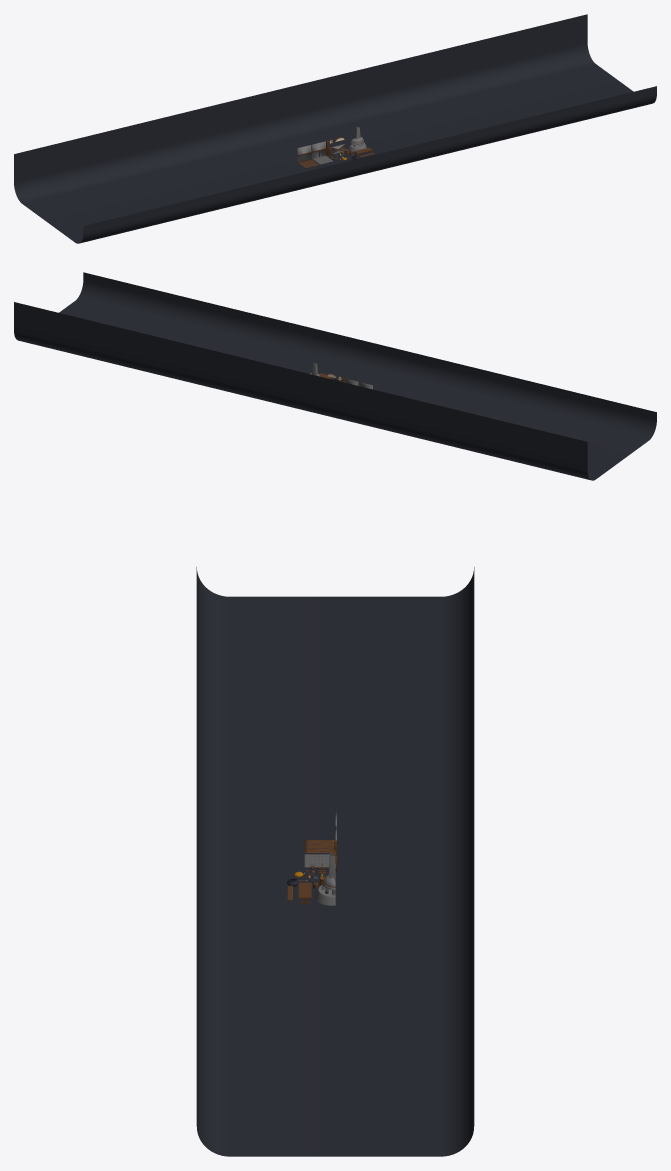
The model's file is scene_models.dae.
3 renders of one model, top to bottom at view 1: azimuth 30°, elevation 25°; view 2: azimuth 150°, elevation 25°; view 3: azimuth 270°, elevation 25°, orthographic. The views are drawn at different scales.
Parts seen in each view (by area): view 1: Plane; view 2: Plane; view 3: Plane.
Part boxes in pixels (x1,y1,x2,y2): Plane: [14, 14, 656, 243]; Plane: [14, 272, 656, 480]; Plane: [196, 567, 474, 1156].
Bounding box in the file's own units: 171 × 35.9 × 12.67.
2 materials, 1 textured.
